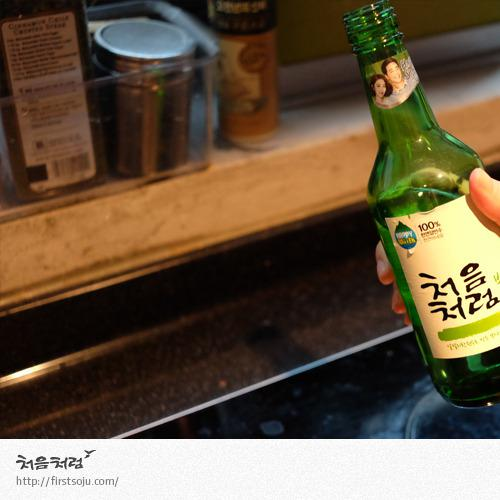soju: (331, 6, 499, 415)
